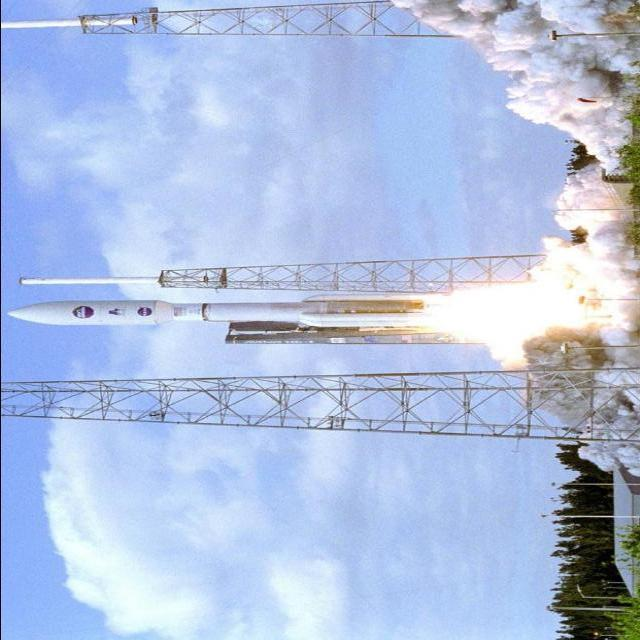Missile: (5, 297, 434, 334), (0, 13, 139, 30), (13, 275, 162, 287)
